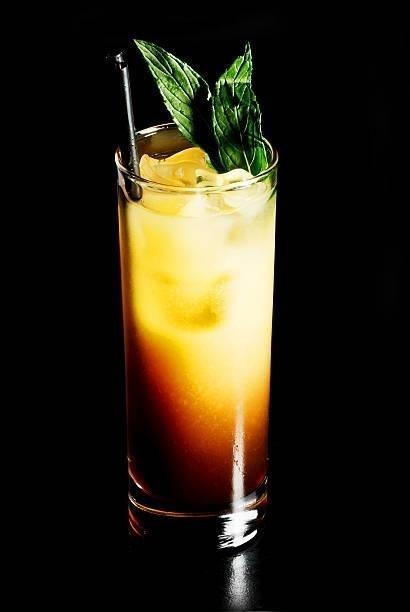glass-normal: (111, 119, 281, 556)
